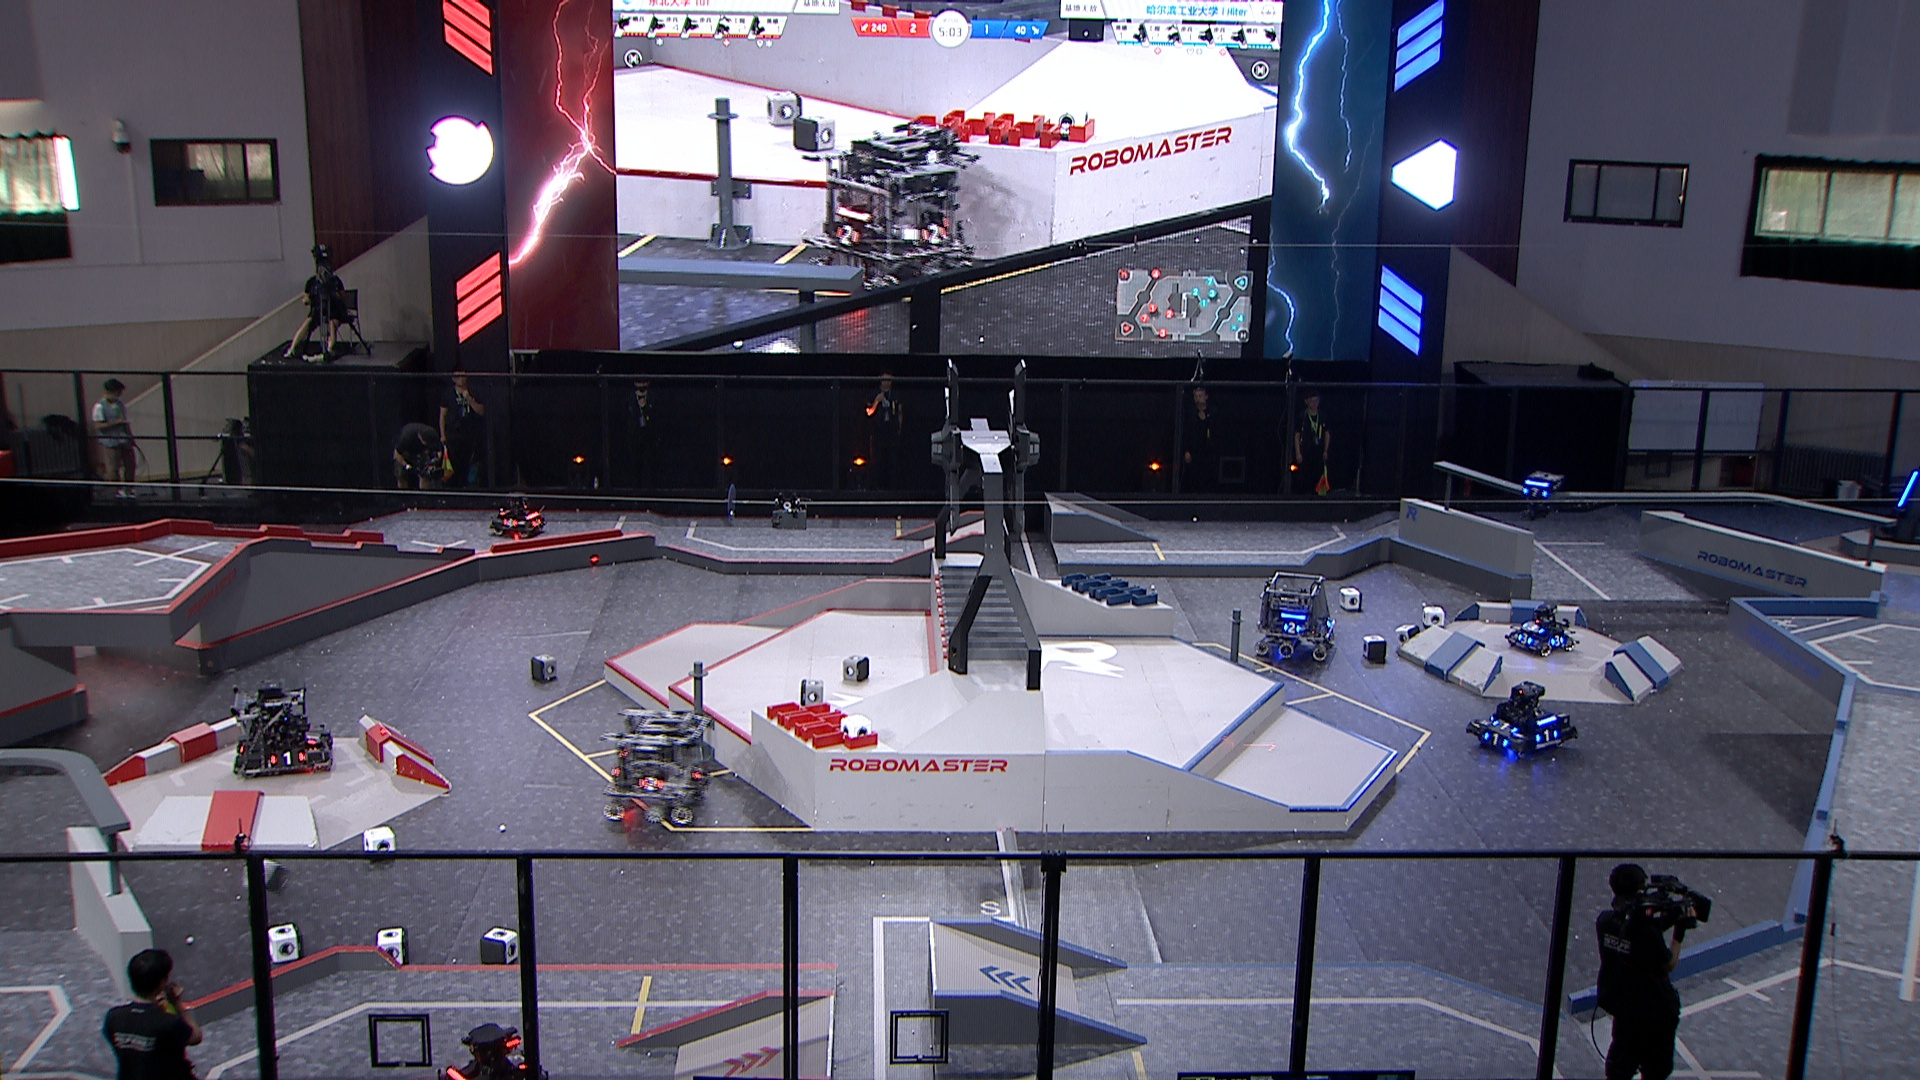armor: (1896, 469, 1920, 508), (1482, 727, 1506, 749), (269, 752, 306, 765), (505, 1052, 529, 1071), (1491, 717, 1516, 732), (1522, 485, 1545, 500), (1534, 731, 1557, 745), (640, 777, 661, 793), (1520, 621, 1542, 636), (1280, 621, 1298, 637), (1515, 632, 1534, 645), (1549, 632, 1564, 647), (305, 728, 319, 742), (320, 738, 334, 754), (690, 766, 704, 779), (501, 517, 517, 527), (1325, 613, 1335, 629), (534, 517, 542, 529)
base: (1871, 462, 1920, 549)
car: (597, 705, 713, 825), (228, 678, 338, 778), (1466, 683, 1578, 760), (1250, 570, 1338, 665), (429, 1022, 551, 1080), (1506, 597, 1577, 657), (487, 491, 547, 541)
ignore: (812, 125, 975, 295)
watcher: (1518, 467, 1564, 524)
